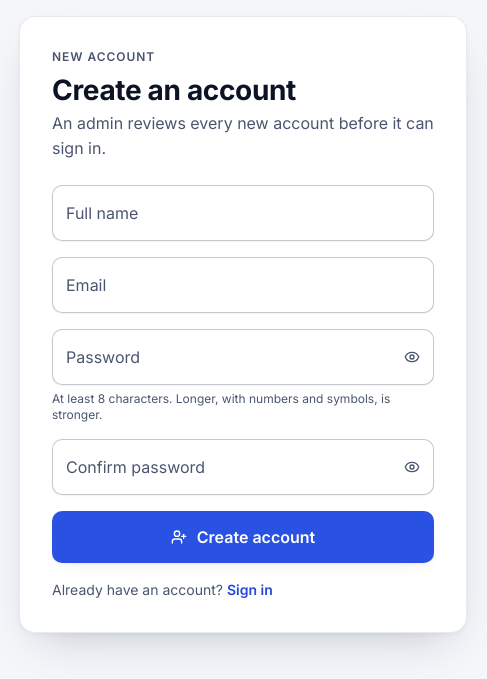
Test: SignupPage › sends name, email and password only, then shows the approval message
The image size is (487, 679).
Type "New Person" into the field labelled "Full name".
click(243, 213); type("New Person")  # box [52,185,434,241]
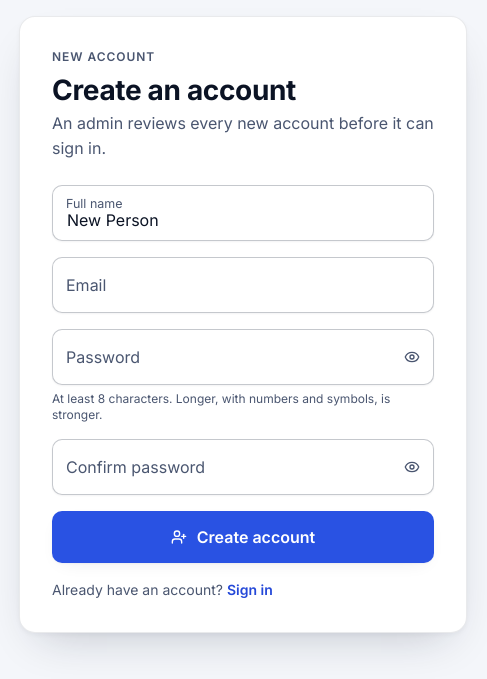
Type "new@example.org" into the field labelled "Email".
click(243, 285); type("new@example.org")  # box [52,257,434,313]
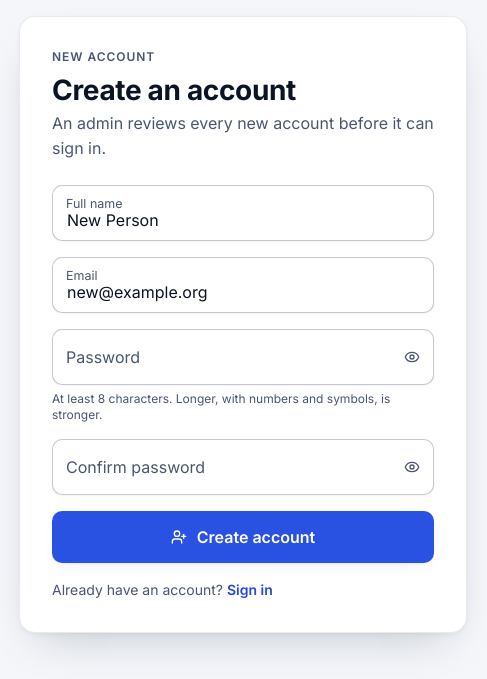
Type "Str0ng-pass" into the password field labelled "Password".
click(243, 357); type("Str0ng-pass")  # box [52,329,434,385]
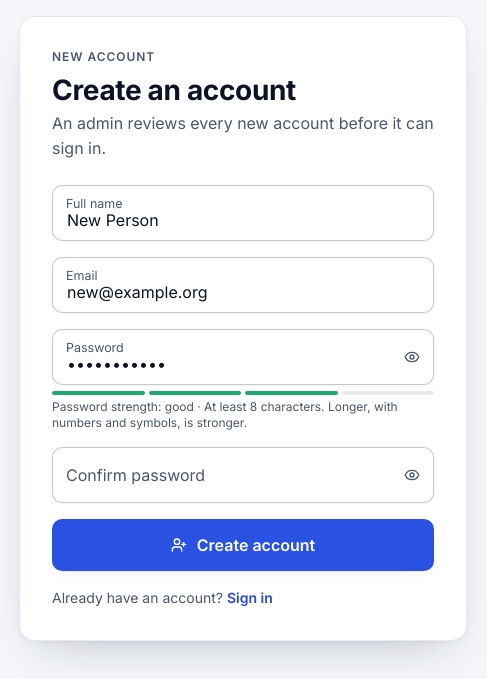
Type "Str0ng-pass" into the password field labelled "Confirm password".
click(243, 475); type("Str0ng-pass")  # box [52,447,434,503]
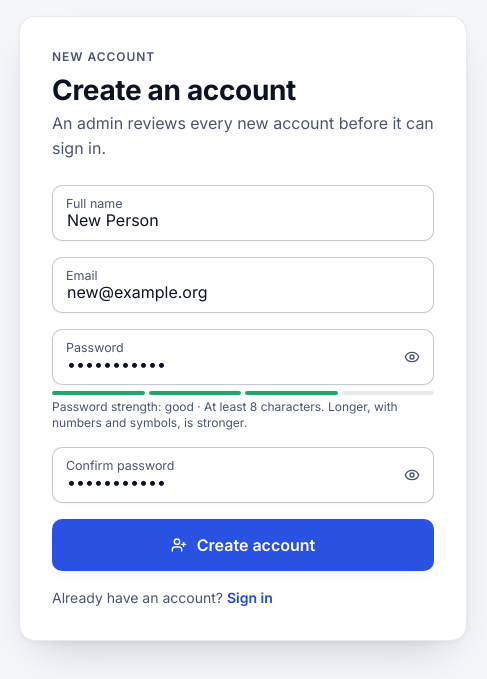
Click the button with test id "signup-submit".
click(243, 545)  # box [52,519,434,571]
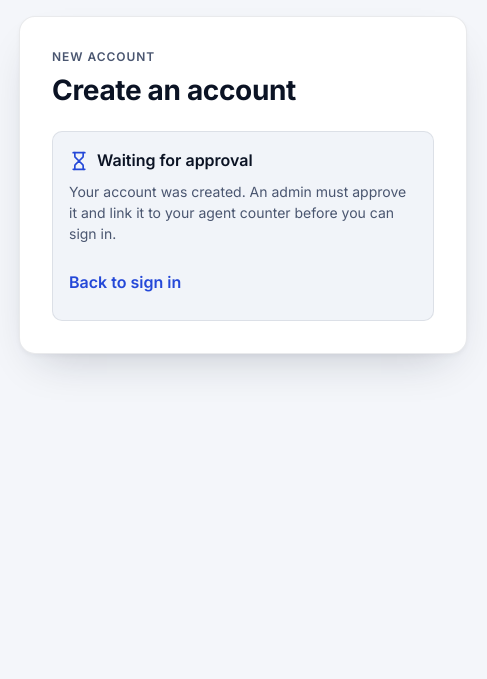
Expected: the message with test id "signup-pending" shows "Waiting for approval", [97,150,253,170]
